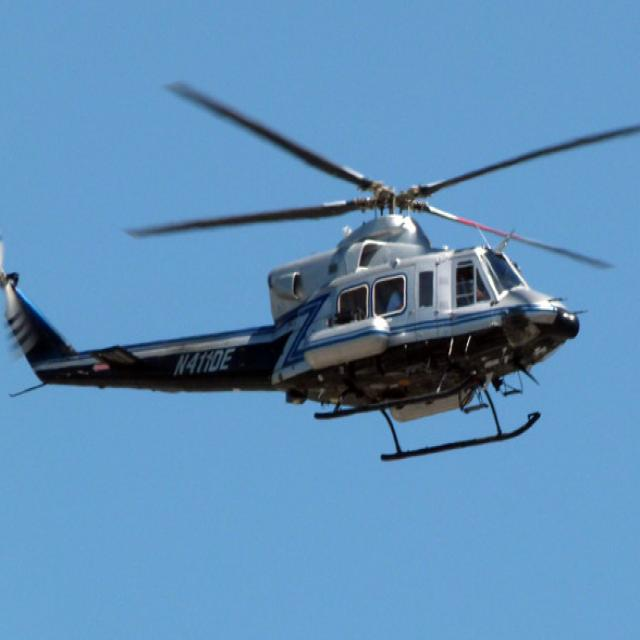helicopter: (1, 78, 640, 461)
